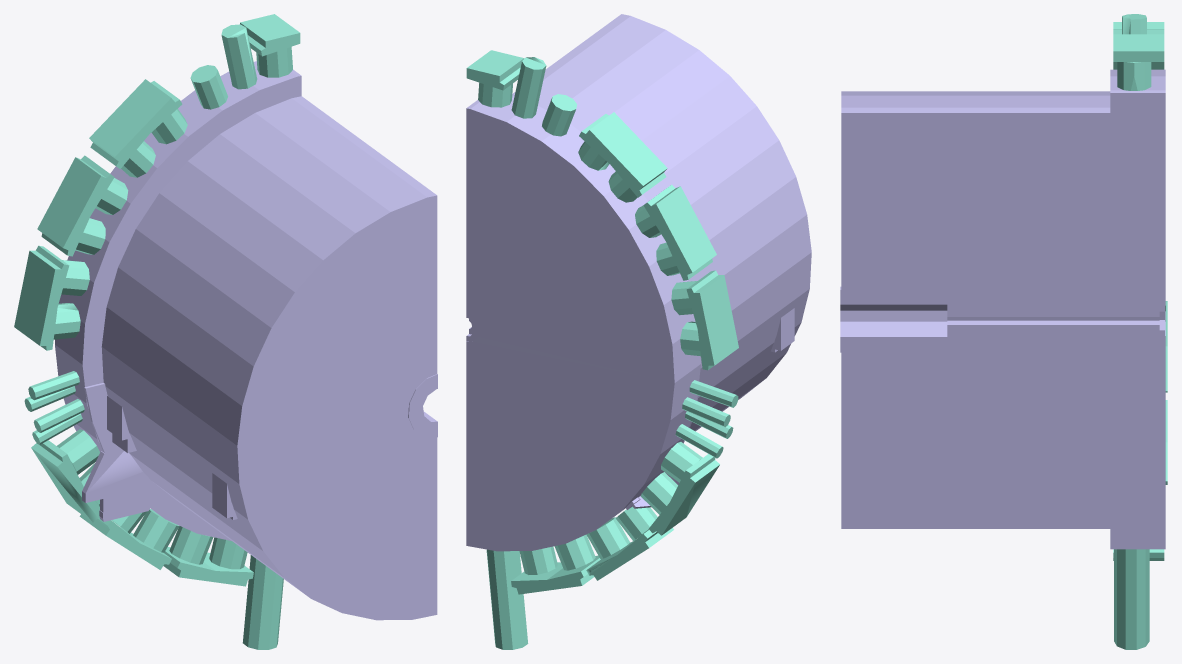
File: Lar-EMEC-SideC-cut2.glb
The picture shows the model from 3 angles, left to right: view 1: azimuth 30°, elevation 25°; view 2: azimuth 150°, elevation 25°; view 3: azimuth 270°, elevation 25°; orthographic projection. The views are drawn at different scales.
Visible parts, largest first — view 1: null.007; view 2: null.007; view 3: null.007.
Boxes of the visible parts, x1=… form: null.007: x1=14, y1=14, x2=437, y2=649; null.007: x1=466, y1=14, x2=811, y2=649; null.007: x1=840, y1=14, x2=1167, y2=649.
Size of the model in its own units: 2.96 by 6.67 by 3.21.
